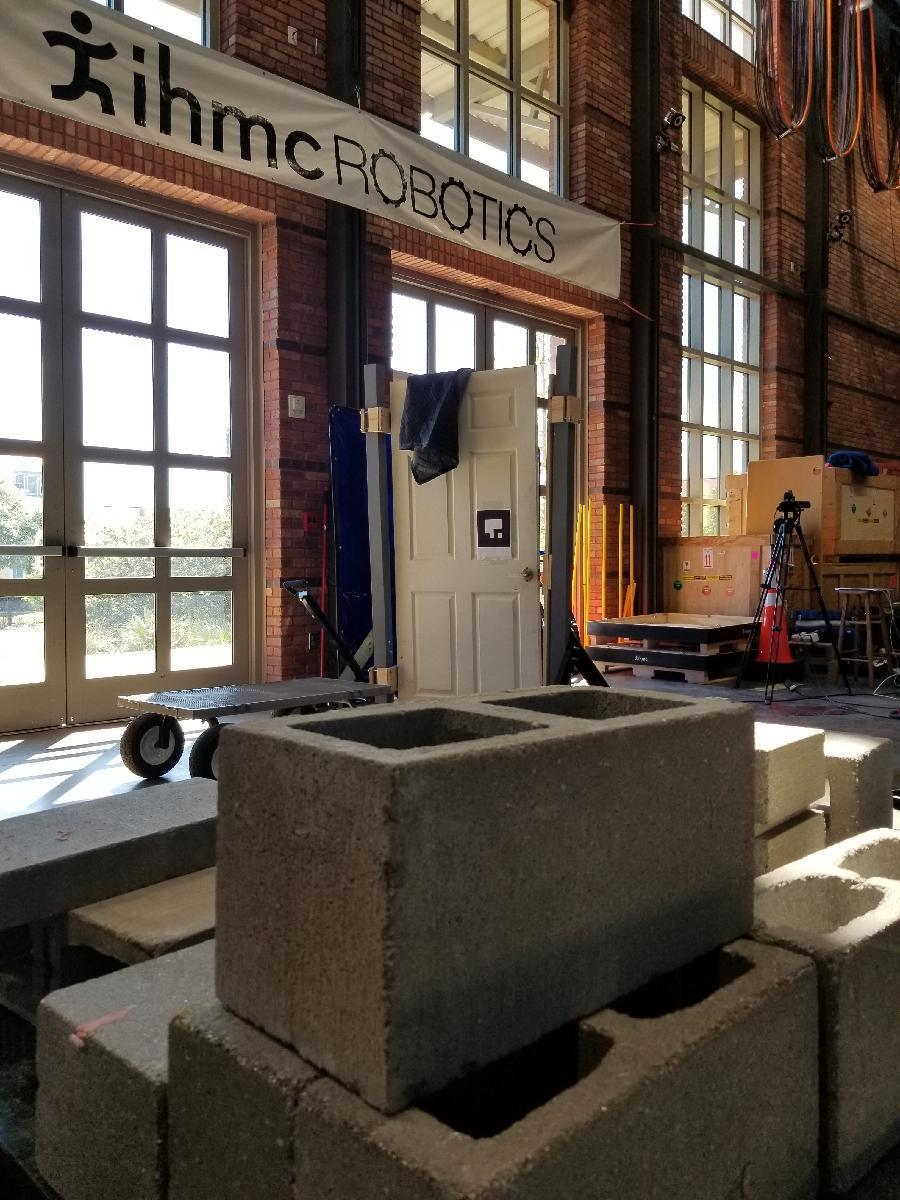door: (385, 366, 543, 705)
